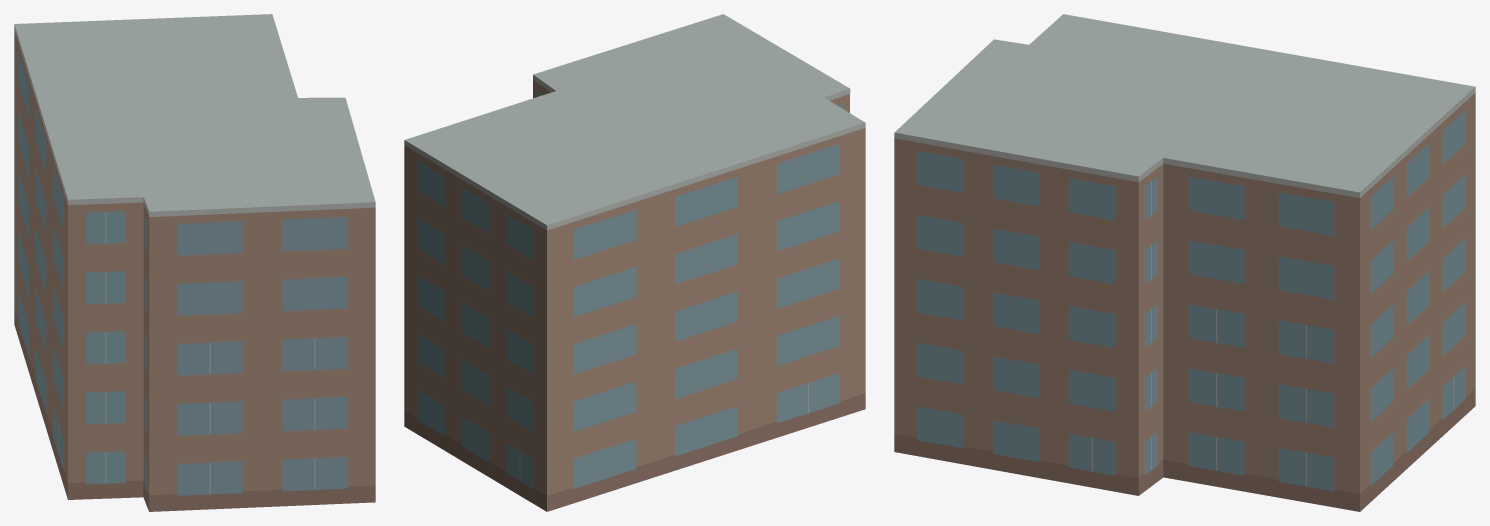
The model's file is survey-upis-32543882.glb.
3 renders of one model, left to right at view 1: azimuth 30°, elevation 25°; view 2: azimuth 150°, elevation 25°; view 3: azimuth 270°, elevation 25°, orthographic. The views are drawn at different scales.
Parts seen in each view (by area): view 1: survey-upis-32543882.tmp; view 2: survey-upis-32543882.tmp; view 3: survey-upis-32543882.tmp.
Part boxes in pixels (x1,y1,x2,y2): survey-upis-32543882.tmp: (14, 14, 375, 511); survey-upis-32543882.tmp: (404, 14, 865, 511); survey-upis-32543882.tmp: (894, 14, 1475, 511).
Size of the model in its own units: 16.31 by 13.6 by 22.44.
